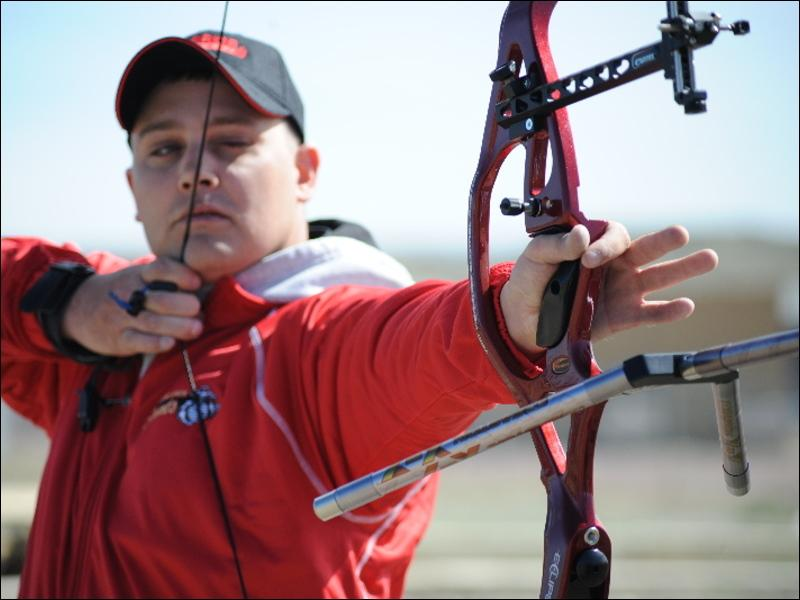person: (3, 26, 717, 598)
